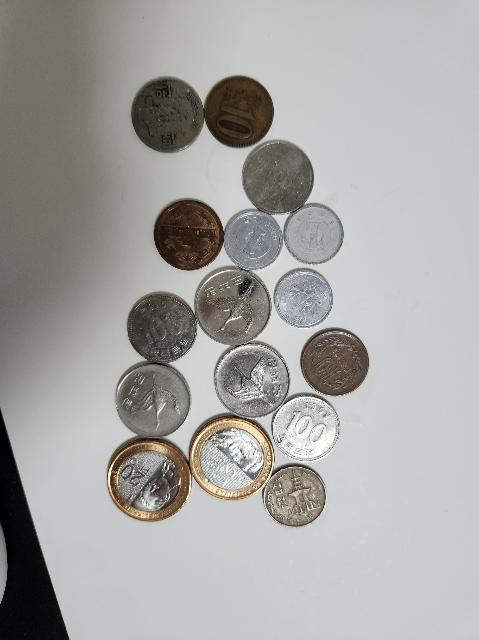coin: (106, 438, 189, 524), (192, 416, 274, 500), (194, 268, 272, 346), (214, 342, 289, 416), (116, 364, 190, 438), (132, 77, 204, 153), (244, 138, 316, 214), (204, 74, 276, 146), (127, 290, 197, 364), (154, 197, 222, 271), (303, 327, 371, 397), (274, 394, 340, 460), (274, 266, 335, 330), (266, 462, 326, 526), (286, 202, 344, 266), (225, 210, 282, 270)
